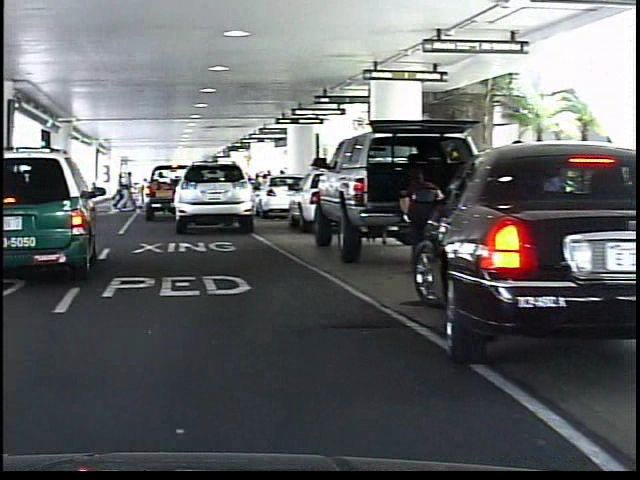person: (394, 156, 446, 268)
